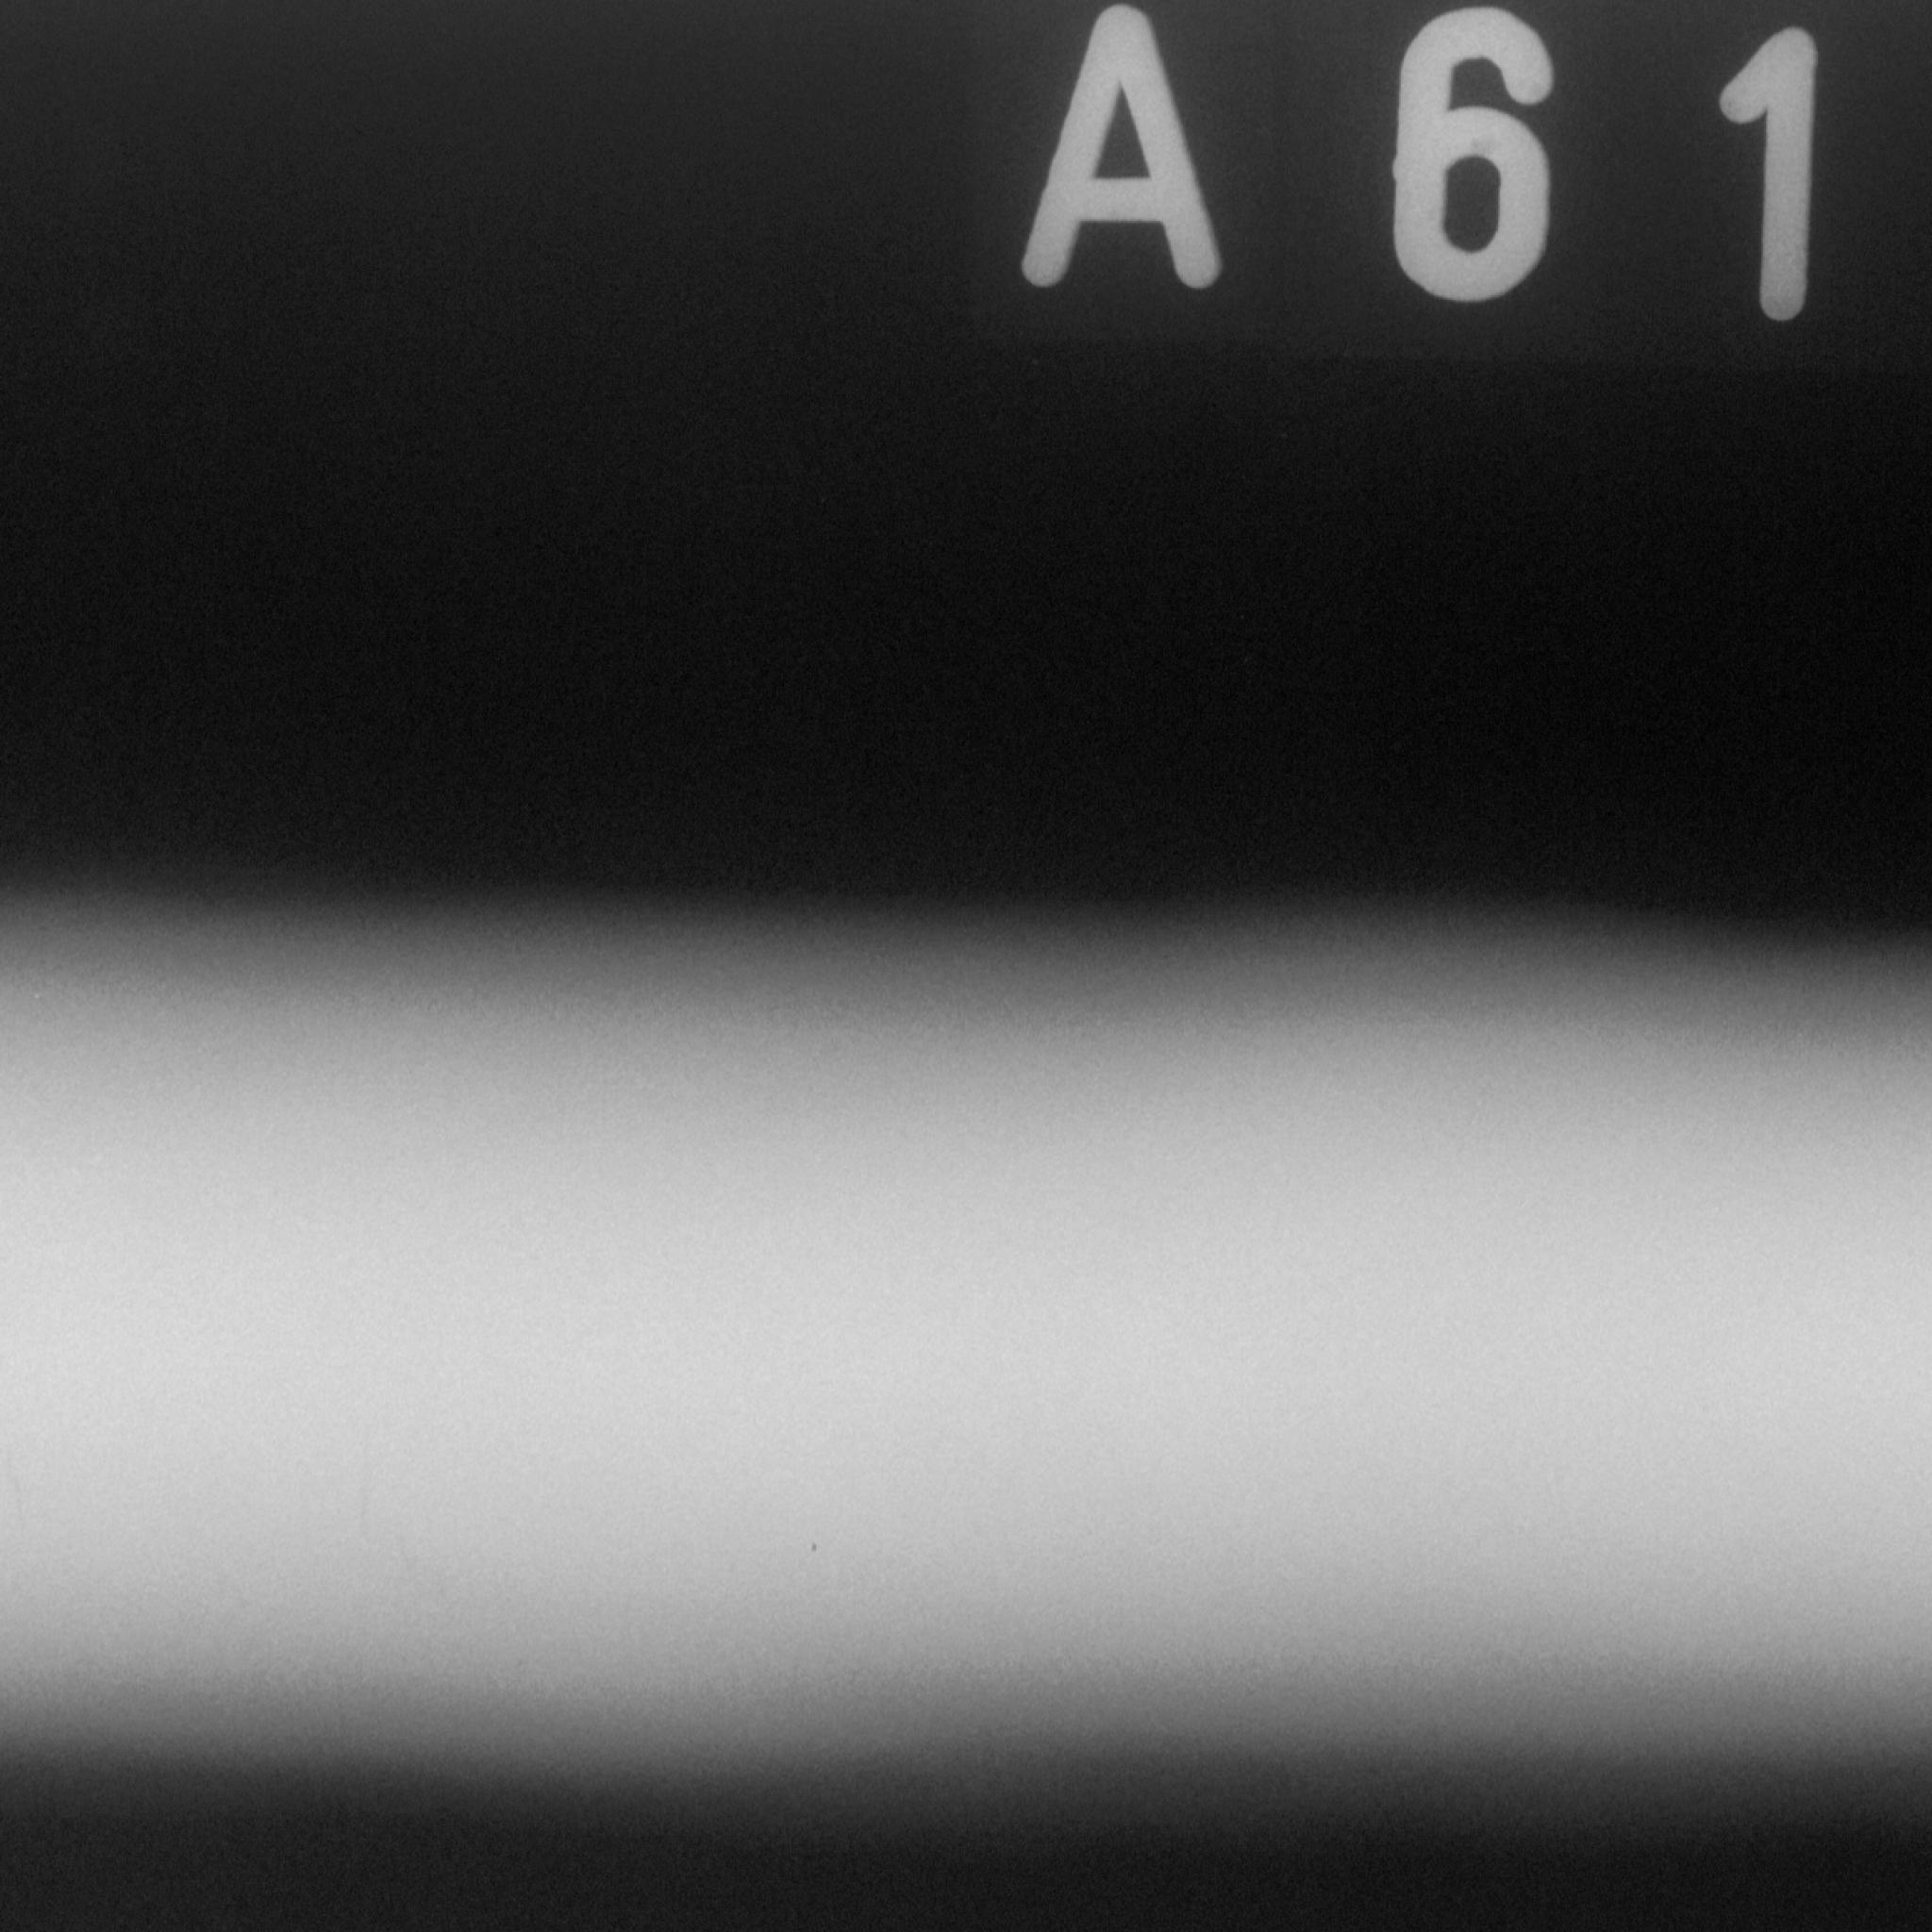PO: (787, 1511, 845, 1575)
Solda Ruim: (295, 1393, 448, 1592), (272, 1645, 400, 1839)
